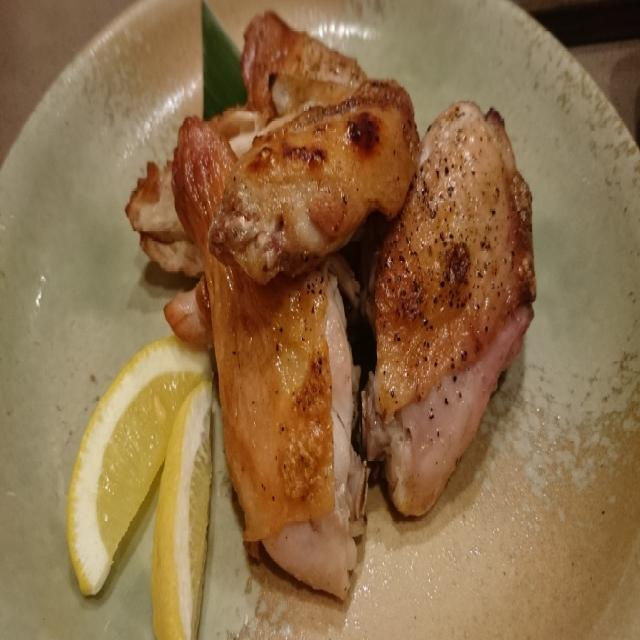Lemon: (64, 328, 214, 598), (150, 378, 216, 640)
